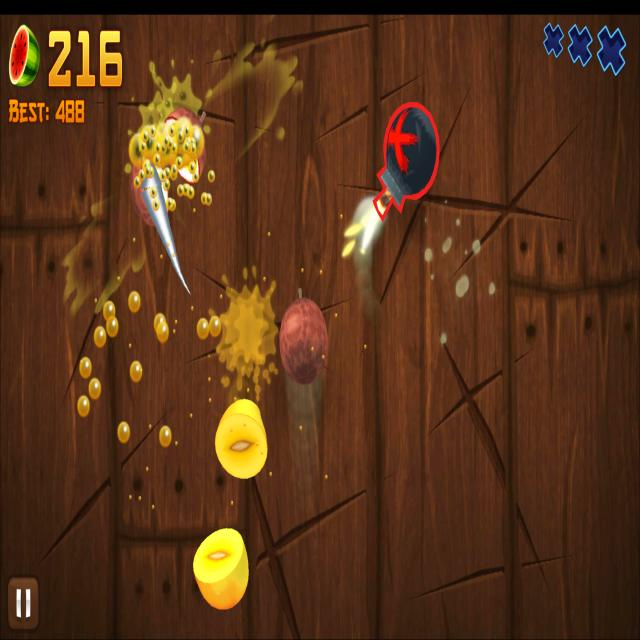bomb: (374, 101, 440, 222)
fruit: (278, 296, 329, 386)
